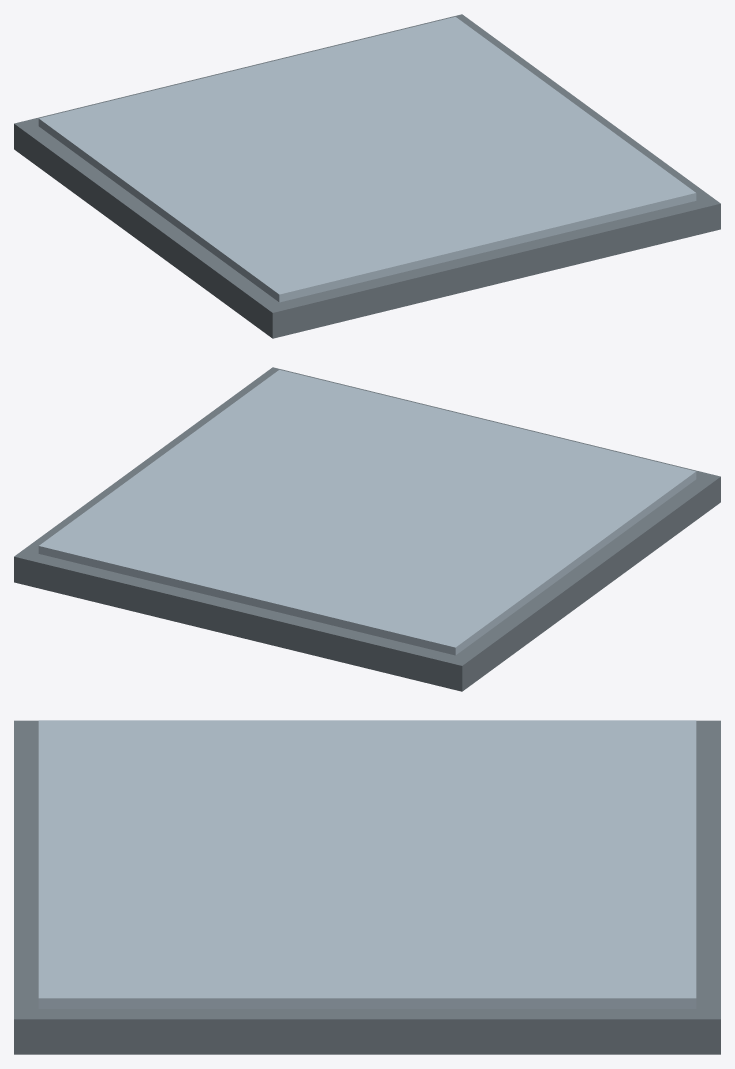
Rendered from k_frost_floor.glb.
3 views of the same model, one above another, from view 1: azimuth 30°, elevation 25°; view 2: azimuth 150°, elevation 25°; view 3: azimuth 270°, elevation 25° (orthographic). The views are drawn at different scales.
Parts seen in each view (by area): view 1: piece; view 2: piece; view 3: piece.
Part boxes in pixels (x1,y1,x2,y2): piece: [14, 14, 720, 338]; piece: [14, 367, 720, 691]; piece: [14, 720, 720, 1054].
Bounding box in the file's own units: 1 × 0.0719 × 1.
